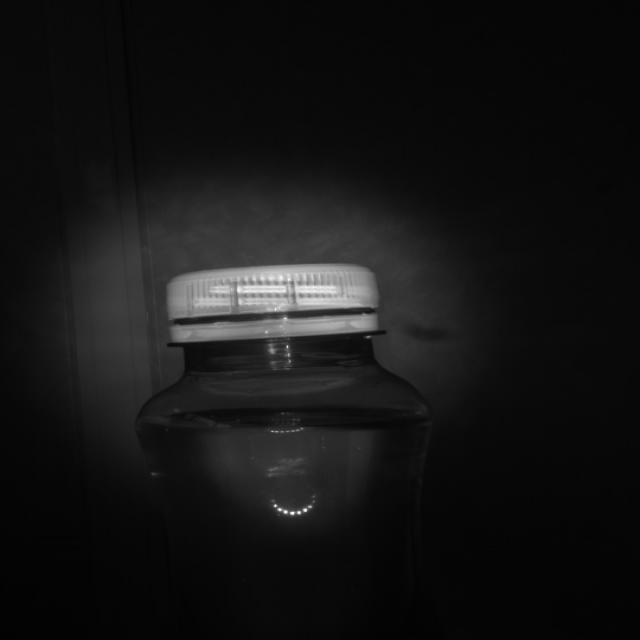Not Good: (169, 264, 379, 344)
